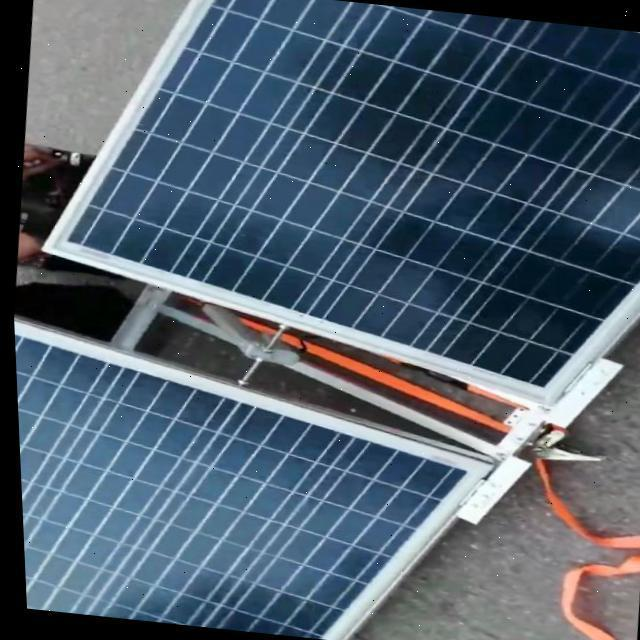Normal Solar Panel: (26, 0, 640, 415), (11, 318, 501, 640)
